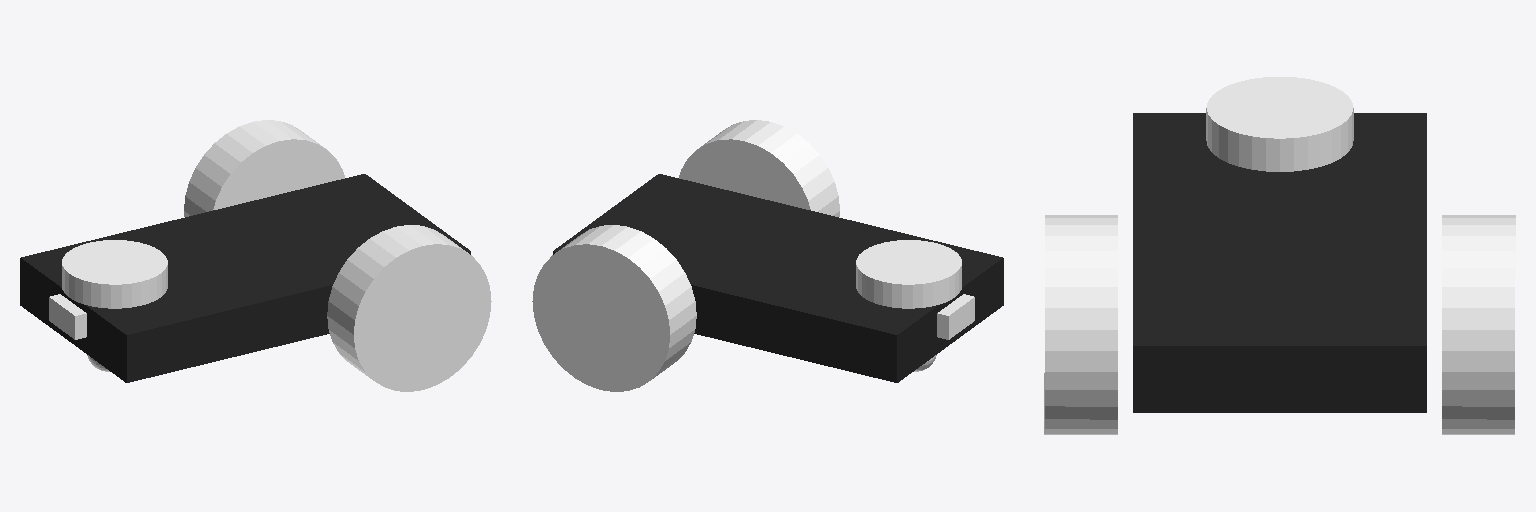
robot.urdf — dolly:
<?xml version="1.0" ?>
  <robot name="dolly">



  <link name="base">
    <visual>
      <geometry>
          <box size="0.75 0.4 0.1"/>
      </geometry>
      <material name="gray">
        <color rgba=".2 .2 .2 1" />
      </material>
    </visual>

    <inertial>
        <mass value="1" />
        <inertia ixx="0.01" ixy="0.0" ixz="0" iyy="0.01" iyz="0" izz="0.01" />
    </inertial>

    <collision>
      <geometry>
          <box size="0.75 0.4 0.1"/>
      </geometry>
    </collision>

  </link>

  <link name="wheel_right_link">
    <inertial>
            <mass value="2" />
            <inertia ixx="0.01" ixy="0.0" ixz="0"
            iyy="0.01" iyz="0" izz="0.01" />
    </inertial>

    <visual>
      <geometry>
          <cylinder radius="0.15" length="0.1"/>
      </geometry>
      <material name="white">
        <color rgba="1 1 1 1"/>
      </material>
    </visual>

    <collision>

      <geometry>
          <cylinder radius="0.15" length="0.1"/>
      </geometry>
      <contact_coefficients mu="100.5" kp="1e+13" kd="1.0"/>
    </collision>
  </link>

  <joint name="wheel_right_joint" type="continuous">
    <origin xyz="0.2 0.27 0.0" rpy="1.57 0.0 0.0"/>
    <parent link="base"/>
    <child link="wheel_right_link"/>
    <axis xyz="0.0 0.0 1.0"/>
  </joint>



  <link name="wheel_left_link">
    <inertial>
            <mass value="2" />
            <inertia ixx="0.01" ixy="0.0" ixz="0"
            iyy="0.01" iyz="0" izz="0.01" />
    </inertial>

    <visual>

      <geometry>
          <cylinder radius="0.15" length="0.1"/>
      </geometry>
      <material name="white">
        <color rgba="1 1 1 1"/>
      </material>
    </visual>

    <collision>
      <geometry>
          <cylinder radius="0.15" length="0.1"/>
      </geometry>
      <contact_coefficients mu="100.5" kp="1e+13" kd="1.0"/>
    </collision>
  </link>

  <joint name="wheel_left_joint" type="continuous">
    <origin xyz="0.2 -0.27 0.0" rpy="1.57 0.0 0.0"/>
    <parent link="base"/>
    <child link="wheel_left_link"/>
    <axis xyz="0.0 0.0 1.0"/>

  </joint>



  <link name="caster">
    <inertial>
            <mass value="1" />
            <inertia ixx="0.01" ixy="0.0" ixz="0"
            iyy="0.01" iyz="0" izz="0.01" />
    </inertial>

    <visual>

      <geometry>
        <sphere radius=".04" />
      </geometry>
      <material name="white" />
    </visual>

    <collision>
      <origin/>
      <geometry>
        <sphere radius=".04" />
      </geometry>
    </collision>
  </link>

  <joint name="caster_joint" type="continuous">
    <origin xyz="-0.3 0.0 -0.08" rpy="0.0 0.0 0.0"/>
    <axis xyz="0 0 1" />
    <parent link="base"/>
    <child link="caster"/>
  </joint>

  <link name="camera">
    <inertial>
            <mass value="0.1" />
            <inertia ixx="0.01" ixy="0.0" ixz="0"
            iyy="0.01" iyz="0" izz="0.01" />
    </inertial>

    <visual>

      <geometry>
        <box size="0.1 0.1 0.05"/>
      </geometry>
      <material name="white">
        <color rgba="1 1 1 1"/>
      </material>
    </visual>

    <collision>
      <geometry>
          <box size="0.1 0.1 0.05"/>
      </geometry>
    </collision>
  </link>

  <joint name="camera_joint" type="fixed">
    <origin xyz="-0.35 0 0.01" rpy="0 0.0 3.14"/>
    <parent link="base"/>
    <child link="camera"/>
    <axis xyz="0.0 0.0 1.0"/>

  </joint>

  <link name="lidar">
    <inertial>
            <mass value="0.5" />
            <inertia ixx="0.01" ixy="0.0" ixz="0"
            iyy="0.01" iyz="0" izz="0.01" />
    </inertial>

    <visual>

      <geometry>
        <cylinder radius="0.1" length="0.05"/>
      </geometry>
      <material name="white">
        <color rgba="1 1 1 1"/>
      </material>
    </visual>

    <collision>
      <geometry>
          <box size="0.1 0.1 0.1"/>
      </geometry>
    </collision>
  </link>

  <joint name="lidar_joint" type="fixed">
    <origin xyz="-0.285 0 0.075" rpy="0 0.0 1.57"/>
    <parent link="base"/>
    <child link="lidar"/>
    <axis xyz="0.0 0.0 1.0"/>

  </joint>

<!-- Custom Velocity Controller -->

<ros2_control name="GazeboSystem" type="system">
  <hardware>
    <plugin>gz_ros2_control/GazeboSimSystem</plugin>
  </hardware>

  <joint name="wheel_right_joint">

    <command_interface name="velocity">
      <param name="min">-5</param>
      <param name="max">5</param>
    </command_interface>

    <state_interface name="position">
      <param name="initial_value">1.0</param>
    </state_interface>

    <state_interface name="velocity"/>

  </joint>


    <joint name="wheel_left_joint">

    <command_interface name="velocity">
      <param name="min">-5</param>
      <param name="max">5</param>
    </command_interface>

    <state_interface name="position">
      <param name="initial_value">1.0</param>
    </state_interface>

    <state_interface name="velocity"/>

  </joint>


</ros2_control>



<gazebo>
    <plugin filename="libgz_ros2_control-system.so" name="gz_ros2_control::GazeboSimROS2ControlPlugin">
      <parameters>__CONTROLLER_CONFIG__</parameters>
    </plugin>
</gazebo>



</robot>

--- Render facts (derived) ---
3 views of the same robot in one strip: view 1: azimuth 30°, elevation 25°; view 2: azimuth 150°, elevation 25°; view 3: azimuth 270°, elevation 25° (orthographic).
Robot: dolly — 6 links, 5 joints (3 continuous, 2 fixed); root link base; default pose: every joint at zero.
Visible links, largest first — view 1: base, wheel_left_link, wheel_right_link, lidar, camera; view 2: base, wheel_right_link, wheel_left_link, lidar, camera; view 3: base, wheel_right_link, wheel_left_link, lidar.
Boxes of the visible links, x1,y1,x2,y2 form: base: (20,174,470,382); wheel_left_link: (327,225,491,391); wheel_right_link: (184,120,344,216); lidar: (62,240,167,308); camera: (49,294,86,339); base: (553,174,1003,382); wheel_right_link: (532,225,696,391); wheel_left_link: (679,120,839,216); lidar: (856,240,961,308); camera: (937,294,974,339); base: (1133,113,1426,412); wheel_right_link: (1442,215,1515,434); wheel_left_link: (1044,215,1117,434); lidar: (1206,77,1353,171).
Bounding box of the posed robot: 0.7751 × 0.6402 × 0.3001 m (x, y, z).
Geometry: primitives only (box / cylinder / sphere), no mesh files.
